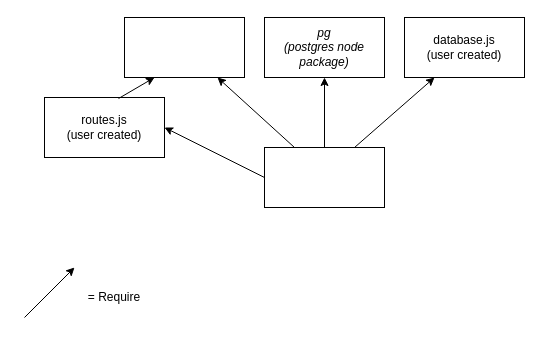
The diagram is 542 pixels wide and 343 high, and some of its shapes have lost their labels. The centre of each missing label's shape, as x and y in pixels:
"app.js (server)" goes at point 324,177.
"user.js (user created)" goes at point 184,47.
